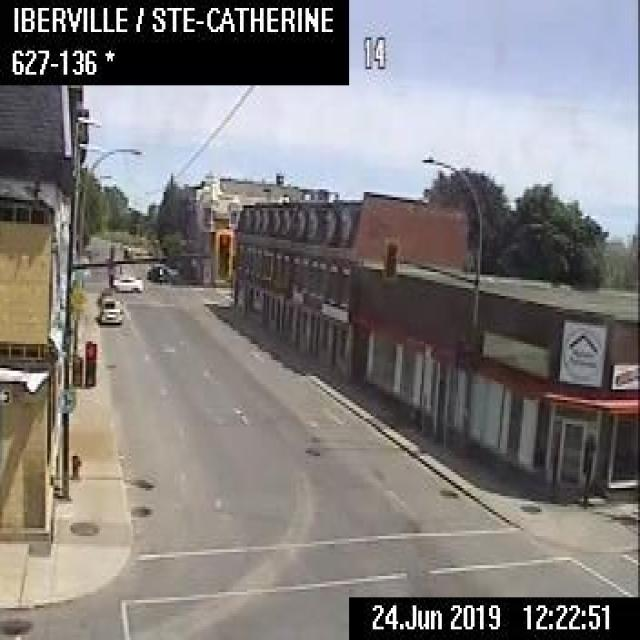vehicle: (110, 271, 142, 293), (98, 296, 120, 322), (143, 262, 170, 282)
